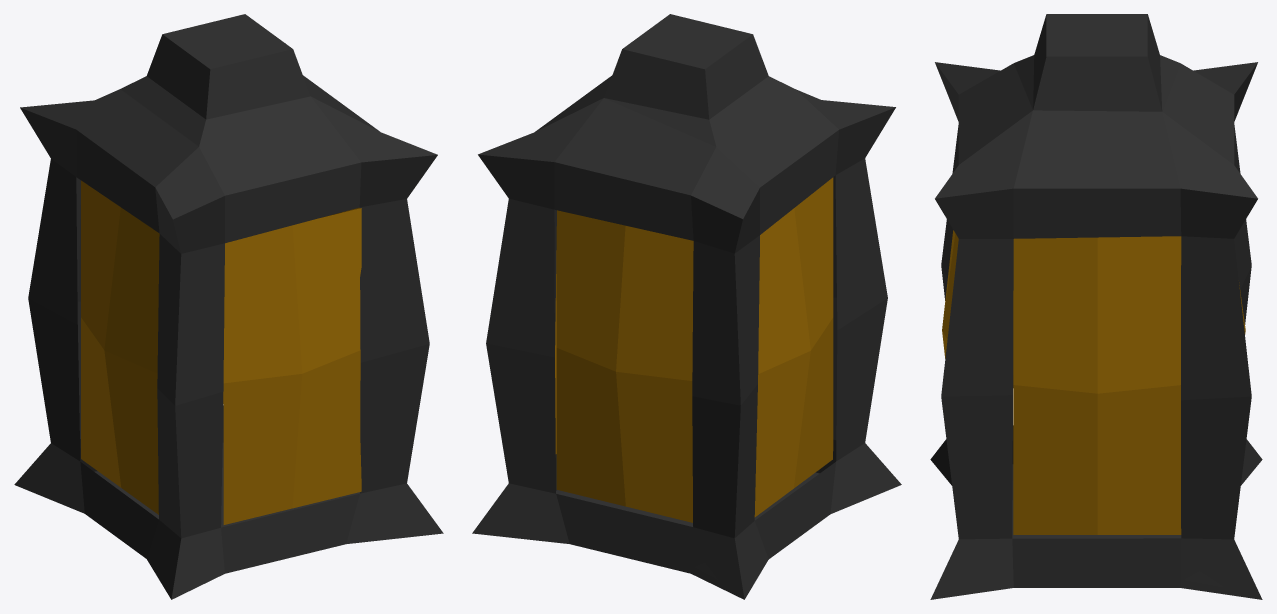
The model's file is Laterne.glb.
3 renders of one model, left to right at view 1: azimuth 30°, elevation 25°; view 2: azimuth 150°, elevation 25°; view 3: azimuth 270°, elevation 25°, orthographic. The views are drawn at different scales.
Visible parts, largest first — view 1: Stange.001; view 2: Stange.001; view 3: Stange.001.
Boxes of the visible parts, x1,y1,x2,y2 form: Stange.001: (14, 14, 443, 599); Stange.001: (472, 14, 901, 599); Stange.001: (930, 14, 1262, 599).
Bounding box in the file's own units: 0.6032 × 0.9895 × 0.6032.
